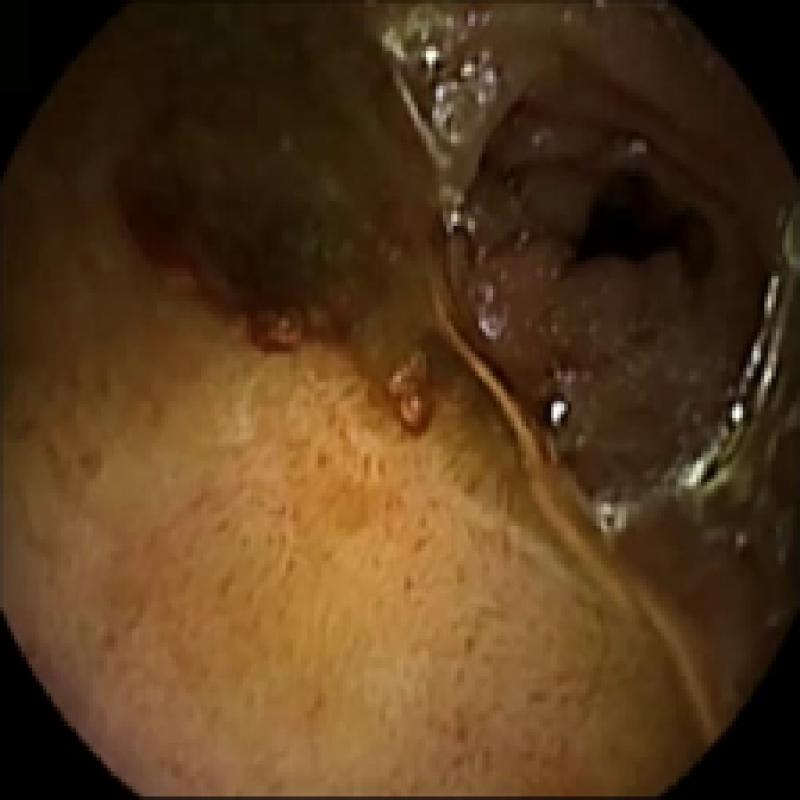bleeding: (121, 157, 346, 343), (548, 170, 722, 285)
